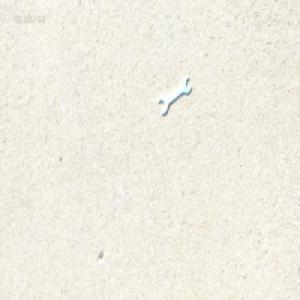Wrench: (158, 76, 191, 114)
